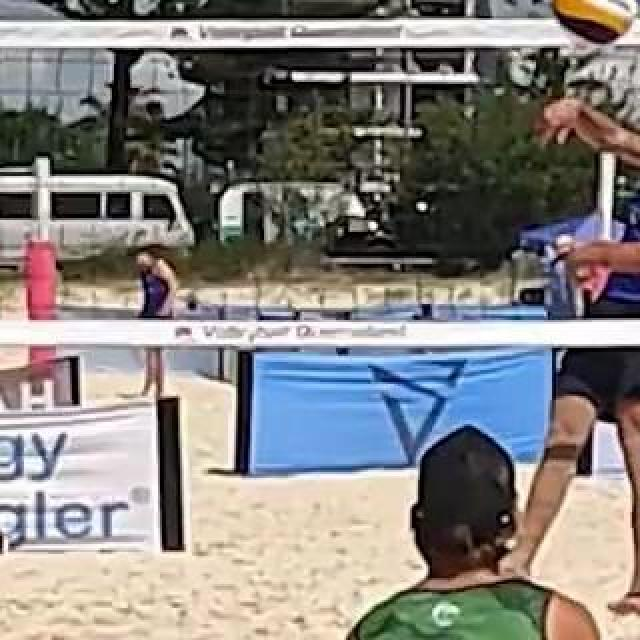volleyball: (550, 0, 640, 42)
